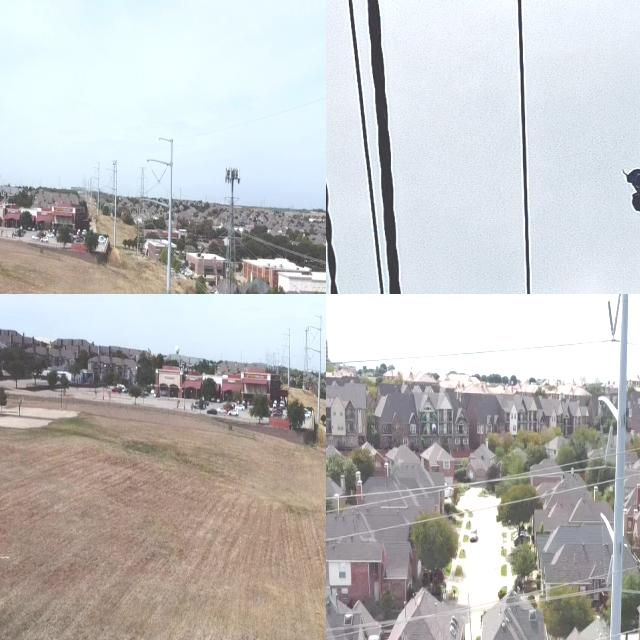杆塔: (217, 166, 250, 294), (134, 164, 150, 254)
植被遮挡: (620, 158, 640, 219)
正常电缆: (326, 474, 616, 545)
正常绝缘子: (611, 294, 623, 340), (604, 424, 614, 465), (605, 553, 616, 588), (607, 298, 616, 338), (602, 543, 609, 588), (599, 423, 607, 461)
